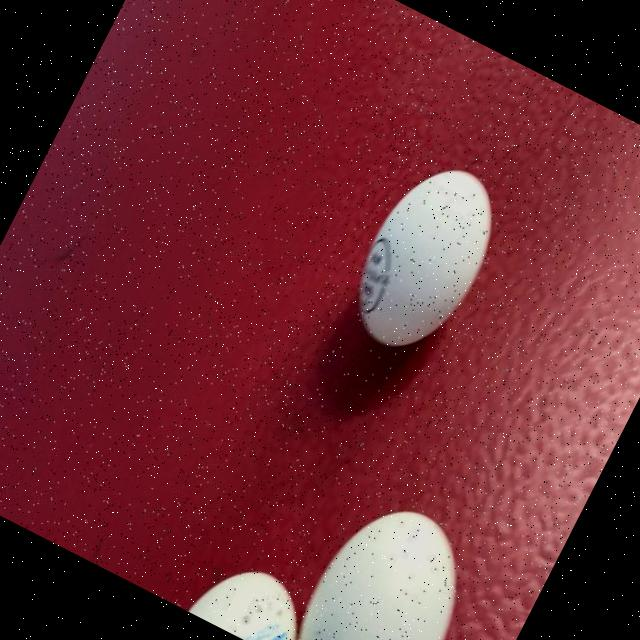ping-pong-ball: (323, 138, 523, 378), (275, 476, 498, 640)
